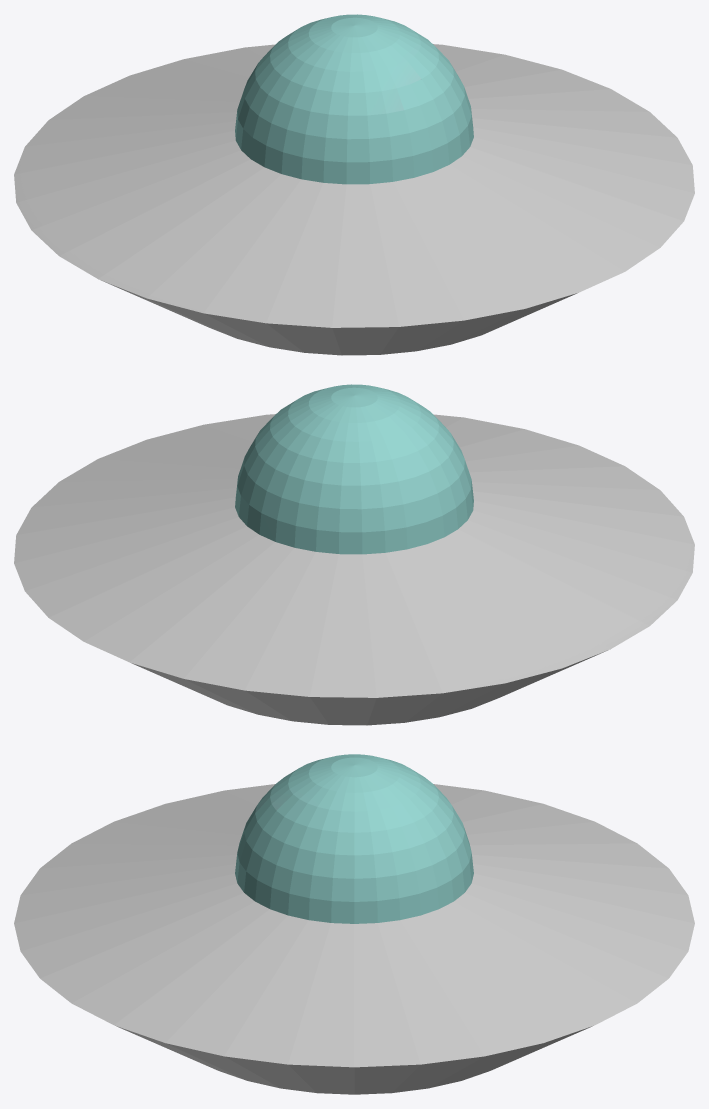
Rendered from UFO.obj.
3 renders of one model, top to bottom at view 1: azimuth 30°, elevation 25°; view 2: azimuth 150°, elevation 25°; view 3: azimuth 270°, elevation 25°, orthographic.
Parts seen in each view (by area): view 1: Cylinder; view 2: Cylinder; view 3: Cylinder.
Boxes of the visible parts, left/top/right/bottom form: Cylinder: left=14, top=14, right=694, bottom=355; Cylinder: left=14, top=384, right=694, bottom=725; Cylinder: left=14, top=754, right=694, bottom=1094.
Size of the model in its own units: 3.54 by 1.42 by 3.54.
1 material, 1 textured.
